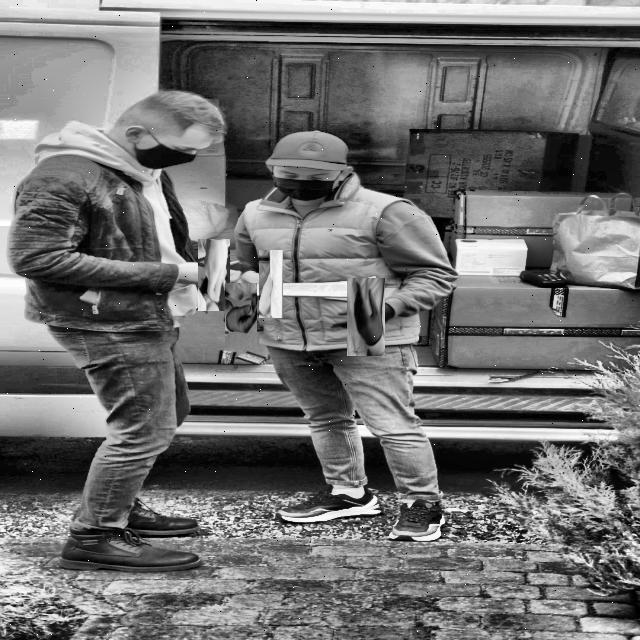gloved: (336, 288, 396, 346), (188, 250, 240, 302), (248, 261, 294, 307)
not-gloved: (217, 290, 266, 340)
